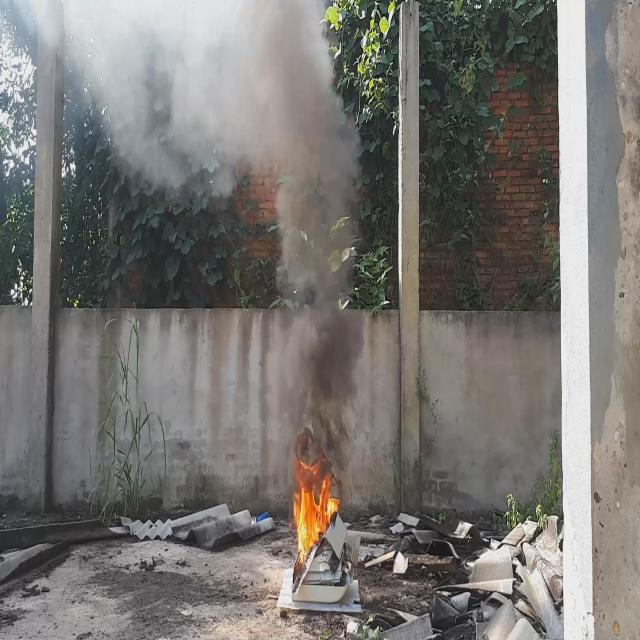Fire: (294, 433, 342, 574)
Smoke: (46, 0, 370, 484)
